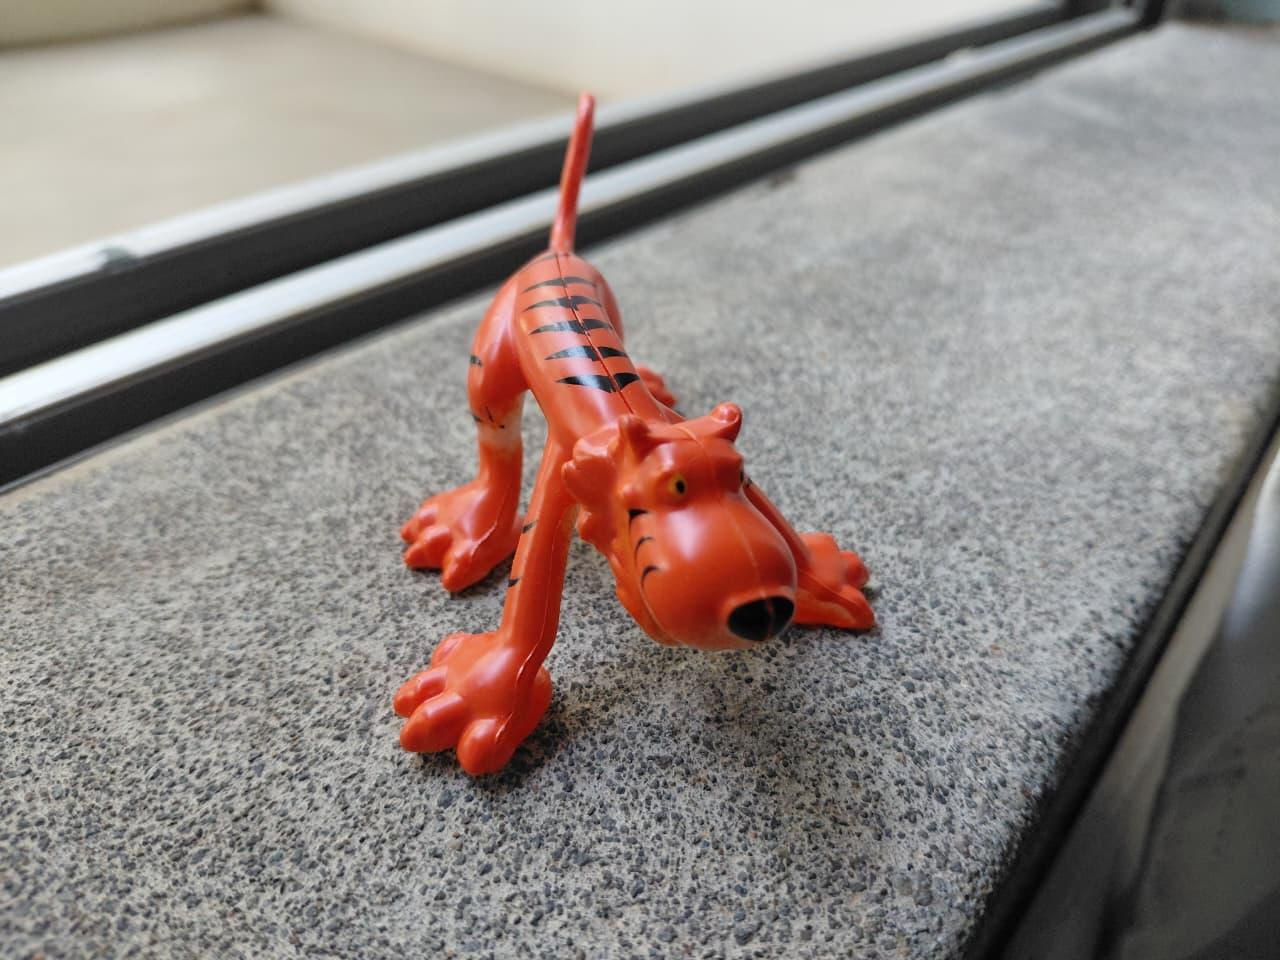tiger: (364, 52, 902, 806)
